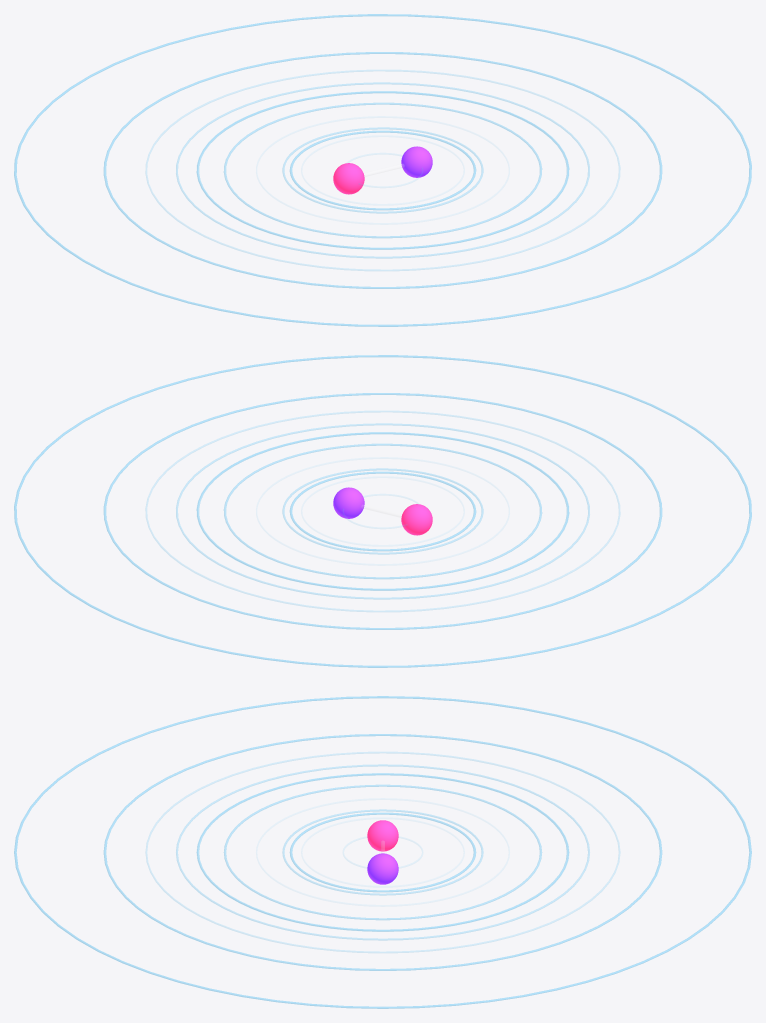
Rendered from uuon-gravitational-waves .glb.
3 views of the same model, one above another, from view 1: azimuth 30°, elevation 25°; view 2: azimuth 150°, elevation 25°; view 3: azimuth 270°, elevation 25° (orthographic).
Visible parts, largest first — view 1: 68ce3689-7662-496a-af6e-8bb443228efc, 6450feda-5f12-4859-9221-142a8eb09334, a3678d0a-069d-4a23-88fd-efed0bb3c84b, 6a814d7b-edf5-475f-9603-c7ef957d087b, cf3ce8ef-baf5-4171-a882-0deae45f5e69, 3ed1fb22-2aa2-465a-a139-96a9edd64a85, 6bfd4649-30e9-4bc9-9484-04ea2dcfacb4, f63a86aa-cfc7-4668-ae4c-e4f59b05c003, b11d6b89-8765-43da-a34e-64622a6fb52d, d9e3510d-43c7-4fa3-a433-6c5cc985a61b; view 2: 68ce3689-7662-496a-af6e-8bb443228efc, 6450feda-5f12-4859-9221-142a8eb09334, a3678d0a-069d-4a23-88fd-efed0bb3c84b, 6a814d7b-edf5-475f-9603-c7ef957d087b, cf3ce8ef-baf5-4171-a882-0deae45f5e69, 3ed1fb22-2aa2-465a-a139-96a9edd64a85, 6bfd4649-30e9-4bc9-9484-04ea2dcfacb4, f63a86aa-cfc7-4668-ae4c-e4f59b05c003, b11d6b89-8765-43da-a34e-64622a6fb52d, d9e3510d-43c7-4fa3-a433-6c5cc985a61b; view 3: 68ce3689-7662-496a-af6e-8bb443228efc, 6450feda-5f12-4859-9221-142a8eb09334, 6a814d7b-edf5-475f-9603-c7ef957d087b, a3678d0a-069d-4a23-88fd-efed0bb3c84b, cf3ce8ef-baf5-4171-a882-0deae45f5e69, 3ed1fb22-2aa2-465a-a139-96a9edd64a85, 6bfd4649-30e9-4bc9-9484-04ea2dcfacb4, f63a86aa-cfc7-4668-ae4c-e4f59b05c003, b11d6b89-8765-43da-a34e-64622a6fb52d, d9e3510d-43c7-4fa3-a433-6c5cc985a61b.
Part boxes in pixels (bbox=[...]): 68ce3689-7662-496a-af6e-8bb443228efc: bbox=[14, 14, 751, 326]; 6450feda-5f12-4859-9221-142a8eb09334: bbox=[103, 52, 662, 288]; a3678d0a-069d-4a23-88fd-efed0bb3c84b: bbox=[176, 82, 589, 258]; 6a814d7b-edf5-475f-9603-c7ef957d087b: bbox=[197, 91, 568, 249]; cf3ce8ef-baf5-4171-a882-0deae45f5e69: bbox=[145, 70, 620, 270]; 3ed1fb22-2aa2-465a-a139-96a9edd64a85: bbox=[224, 103, 541, 237]; 6bfd4649-30e9-4bc9-9484-04ea2dcfacb4: bbox=[289, 130, 476, 210]; f63a86aa-cfc7-4668-ae4c-e4f59b05c003: bbox=[282, 127, 483, 213]; b11d6b89-8765-43da-a34e-64622a6fb52d: bbox=[401, 146, 432, 177]; d9e3510d-43c7-4fa3-a433-6c5cc985a61b: bbox=[333, 163, 364, 194]; 68ce3689-7662-496a-af6e-8bb443228efc: bbox=[14, 355, 751, 667]; 6450feda-5f12-4859-9221-142a8eb09334: bbox=[103, 393, 662, 629]; a3678d0a-069d-4a23-88fd-efed0bb3c84b: bbox=[176, 423, 589, 599]; 6a814d7b-edf5-475f-9603-c7ef957d087b: bbox=[197, 432, 568, 590]; cf3ce8ef-baf5-4171-a882-0deae45f5e69: bbox=[145, 411, 620, 611]; 3ed1fb22-2aa2-465a-a139-96a9edd64a85: bbox=[224, 444, 541, 578]; 6bfd4649-30e9-4bc9-9484-04ea2dcfacb4: bbox=[289, 471, 476, 551]; f63a86aa-cfc7-4668-ae4c-e4f59b05c003: bbox=[282, 468, 483, 554]; b11d6b89-8765-43da-a34e-64622a6fb52d: bbox=[333, 487, 364, 518]; d9e3510d-43c7-4fa3-a433-6c5cc985a61b: bbox=[401, 504, 432, 535]; 68ce3689-7662-496a-af6e-8bb443228efc: bbox=[14, 696, 751, 1008]; 6450feda-5f12-4859-9221-142a8eb09334: bbox=[103, 734, 662, 970]; 6a814d7b-edf5-475f-9603-c7ef957d087b: bbox=[197, 773, 568, 931]; a3678d0a-069d-4a23-88fd-efed0bb3c84b: bbox=[176, 764, 589, 940]; cf3ce8ef-baf5-4171-a882-0deae45f5e69: bbox=[145, 752, 620, 952]; 3ed1fb22-2aa2-465a-a139-96a9edd64a85: bbox=[224, 785, 541, 919]; 6bfd4649-30e9-4bc9-9484-04ea2dcfacb4: bbox=[289, 812, 476, 892]; f63a86aa-cfc7-4668-ae4c-e4f59b05c003: bbox=[282, 809, 483, 895]; b11d6b89-8765-43da-a34e-64622a6fb52d: bbox=[367, 853, 398, 884]; d9e3510d-43c7-4fa3-a433-6c5cc985a61b: bbox=[367, 820, 398, 851].
Bounding box in the file's own units: 56.35 × 2.4 × 56.35.
